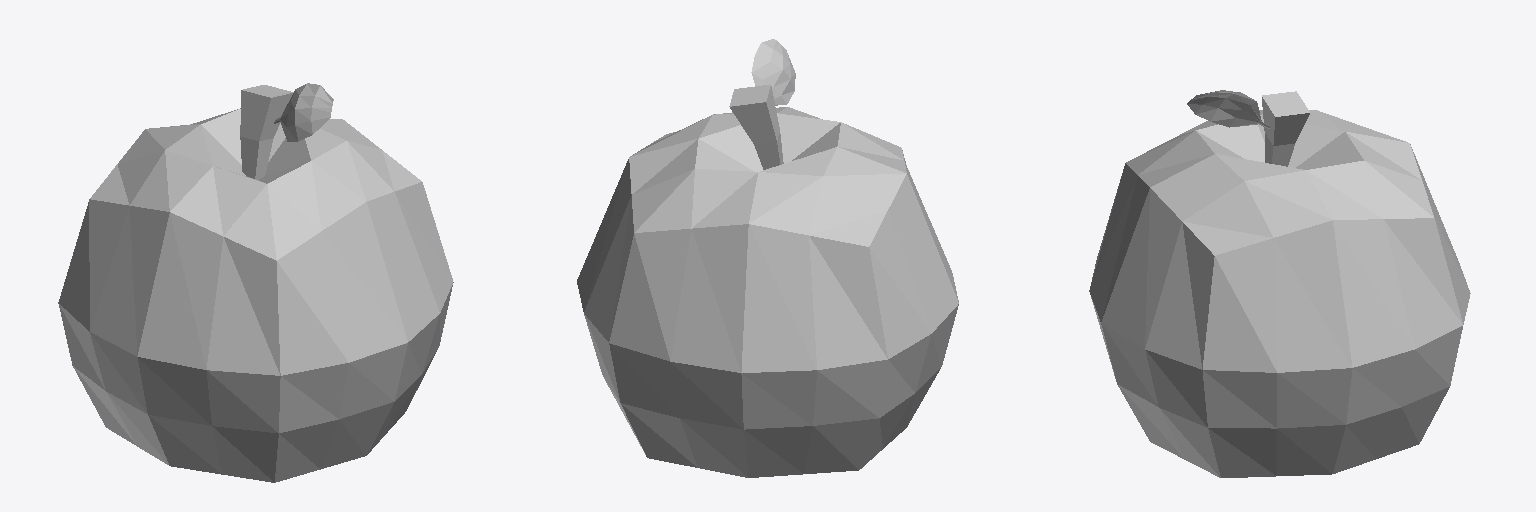
Rendered from food.obj.
3 renders of one model, left to right at view 1: azimuth 30°, elevation 25°; view 2: azimuth 150°, elevation 25°; view 3: azimuth 270°, elevation 25°, orthographic.
Parts seen in each view (by area): view 1: apple_Plane.001; view 2: apple_Plane.001; view 3: apple_Plane.001.
Part boxes in pixels (bbox=[...]): apple_Plane.001: bbox=[58, 83, 453, 482]; apple_Plane.001: bbox=[577, 39, 958, 477]; apple_Plane.001: bbox=[1089, 90, 1470, 477].
Bounding box in the file's own units: 2.72 × 2.89 × 2.72.